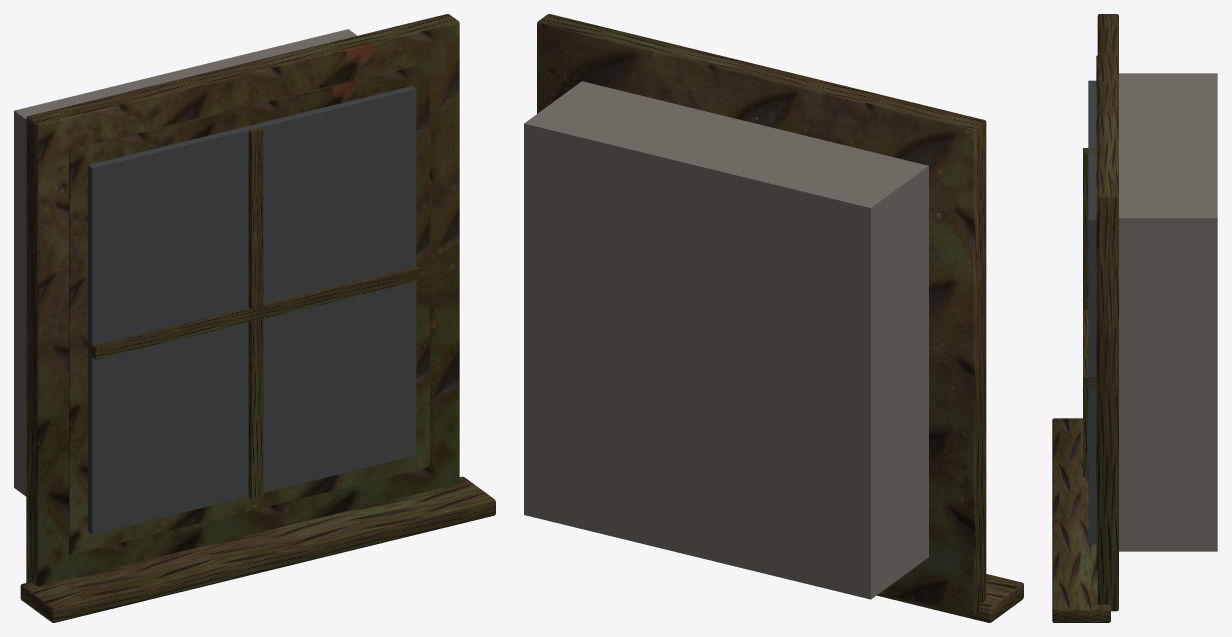
The model's file is window_dark.glb.
3 renders of one model, left to right at view 1: azimuth 30°, elevation 25°; view 2: azimuth 150°, elevation 25°; view 3: azimuth 270°, elevation 25°, orthographic. The views are drawn at different scales.
Parts seen in each view (by area): view 1: glass, outer, inner, sill, room, mullV, mullH; view 2: room, outer, sill; view 3: room, outer, sill, glass, mullV, inner, mullH.
Boxes of the visible parts, x1,y1,x2,y2 form: glass: [88, 86, 416, 534]; outer: [26, 14, 459, 586]; inner: [69, 62, 429, 554]; sill: [20, 476, 495, 622]; room: [14, 29, 357, 496]; mullV: [245, 124, 263, 498]; mullH: [88, 266, 419, 359]; room: [524, 81, 928, 599]; outer: [537, 14, 986, 615]; sill: [877, 574, 1023, 622]; room: [1119, 73, 1217, 551]; outer: [1097, 14, 1118, 611]; sill: [1052, 418, 1110, 622]; glass: [1088, 80, 1096, 544]; mullV: [1083, 148, 1096, 477]; inner: [1096, 55, 1097, 569]; mullH: [1083, 309, 1096, 387].
Size of the model in its own units: 1.7 by 1.75 by 0.62.
3 materials, 1 textured.
